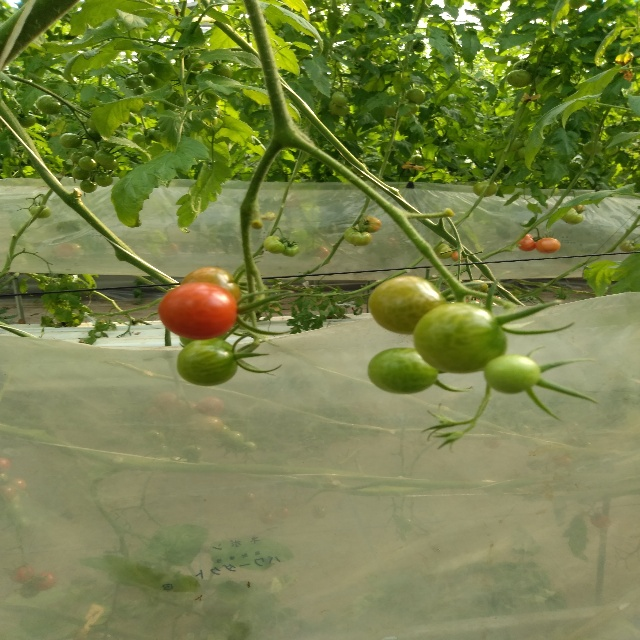l_fully_ripened: (158, 282, 237, 340)
l_green: (415, 302, 507, 374), (368, 276, 447, 334), (366, 348, 439, 394), (175, 338, 239, 385), (485, 355, 540, 393)
l_half_ripened: (181, 267, 241, 304)
